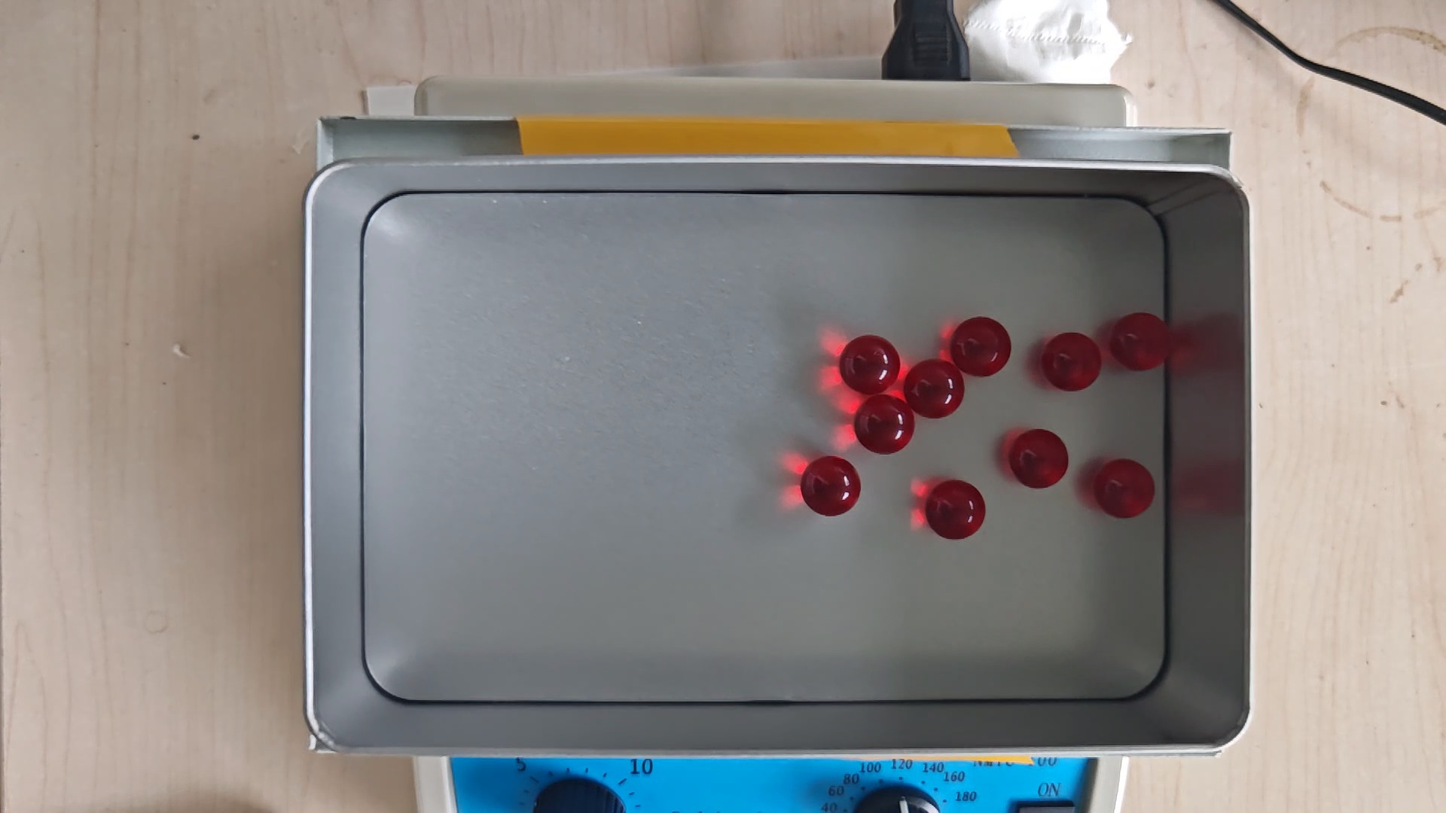ball: (925, 478, 986, 541), (1110, 312, 1171, 373), (1009, 428, 1069, 490), (1095, 458, 1155, 520), (801, 455, 861, 517), (905, 359, 965, 419), (1042, 332, 1101, 393), (952, 316, 1010, 378), (840, 334, 899, 394), (855, 396, 915, 455)
container: (357, 193, 1168, 701)
